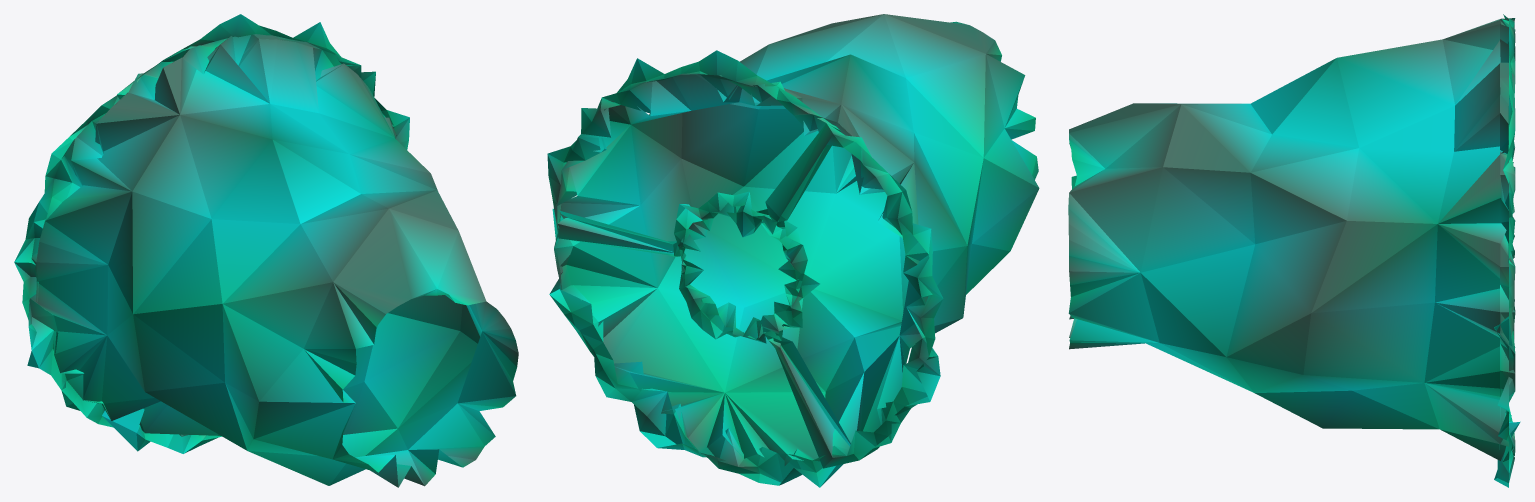
Rendered from lamp_shade_2_final100.obj.
3 views of the same model, side by side, from view 1: azimuth 30°, elevation 25°; view 2: azimuth 150°, elevation 25°; view 3: azimuth 270°, elevation 25° (orthographic). The views are drawn at different scales.
Size of the model in its own units: 1.17 by 1.19 by 1.11.
